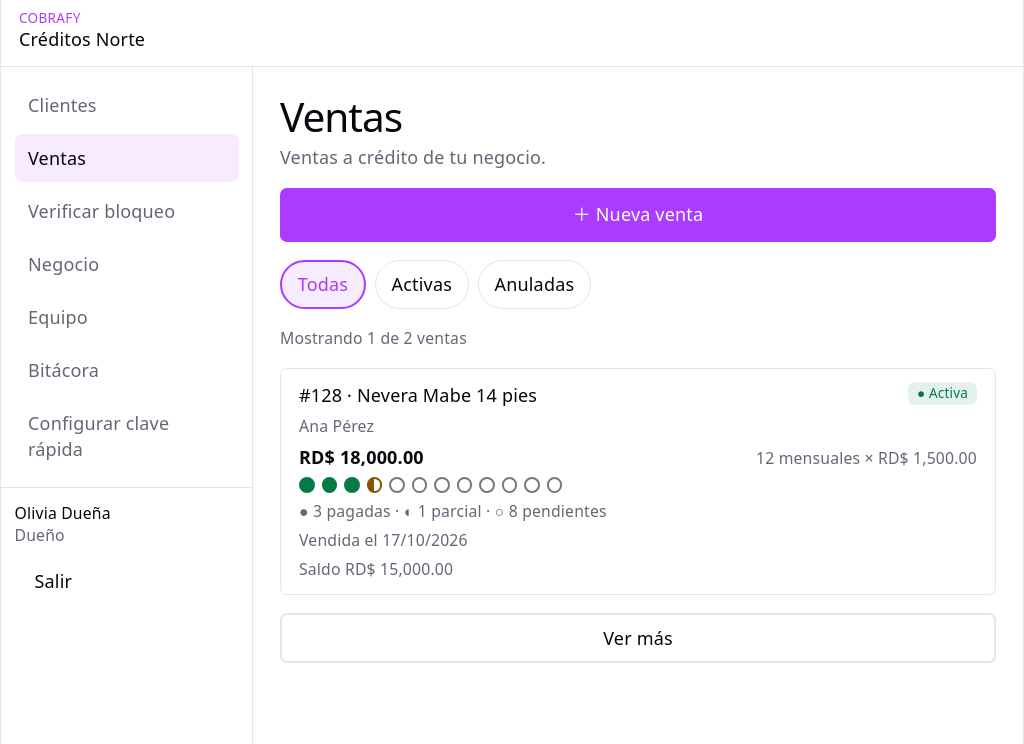
Test: CBF-214 estado real de las cuotas › si falla Ver más conserva la lista y muestra Reintentar
Check: the text "#128 · Nevera Mabe 14 pies" is shown, box [299,382,537,408]
Click the button "Ver más" at (638, 638), box [280,613,996,663]
(page scrolled)
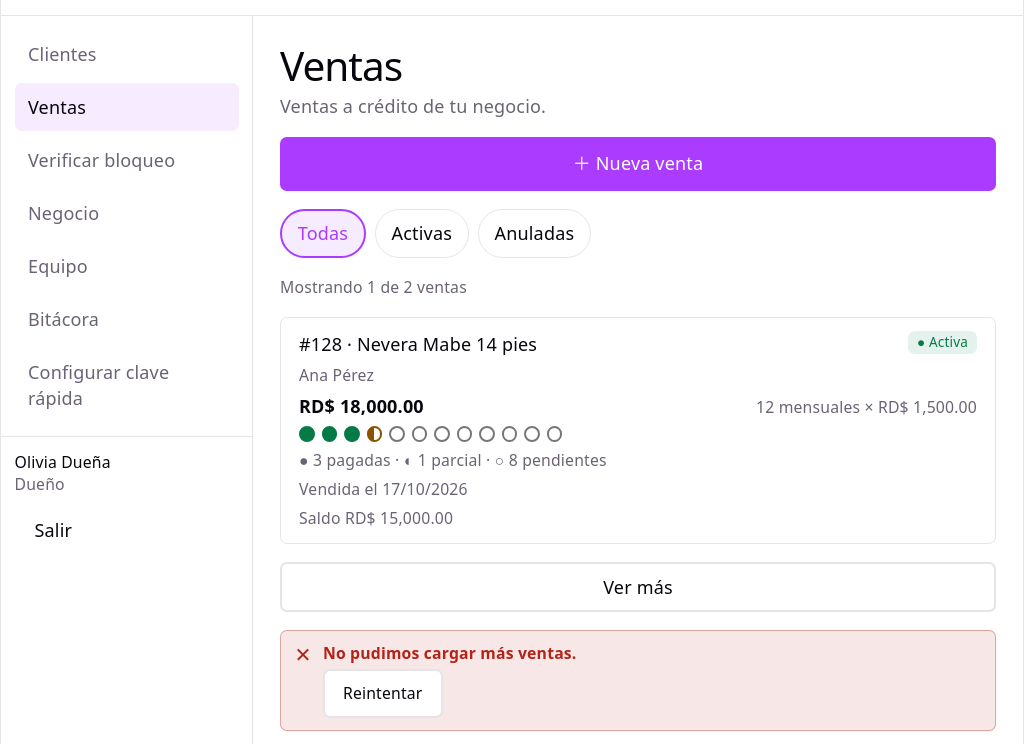
Check: the text "#128 · Nevera Mabe 14 pies" is shown, box [299,331,537,357]
Check: the text "No pudimos cargar más ventas." is shown, box [323,642,576,664]
Click the button "Reintentar" at (383, 694), box [323,669,442,718]
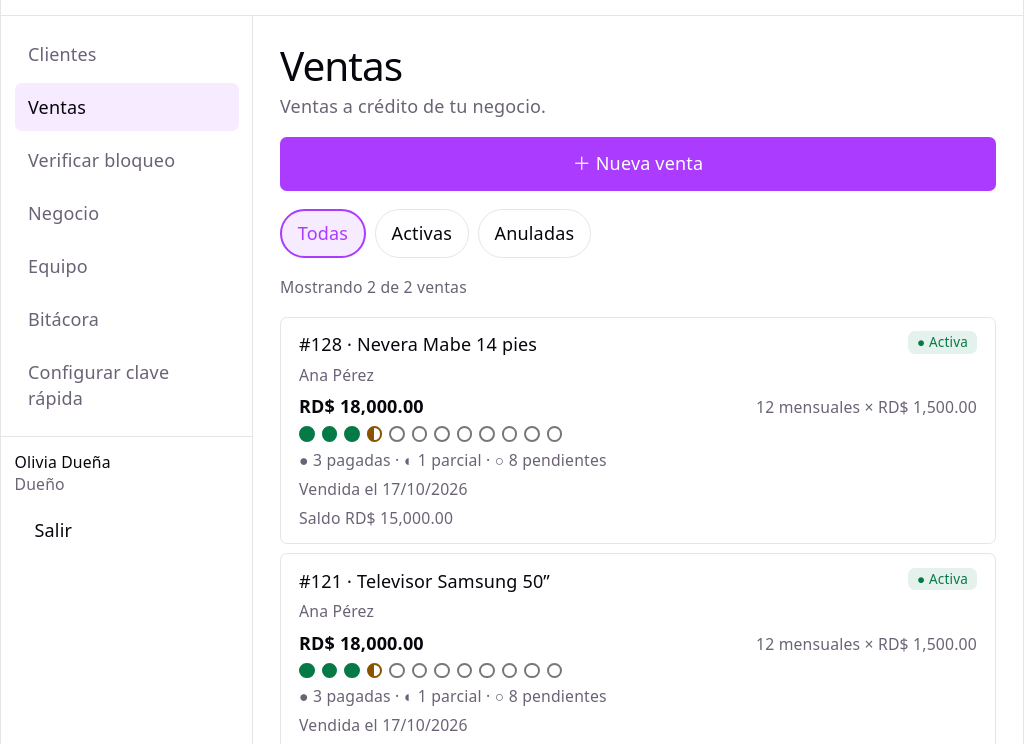
Check: the text "#121 · Televisor Samsung 50”" is shown, box [299,568,550,594]
